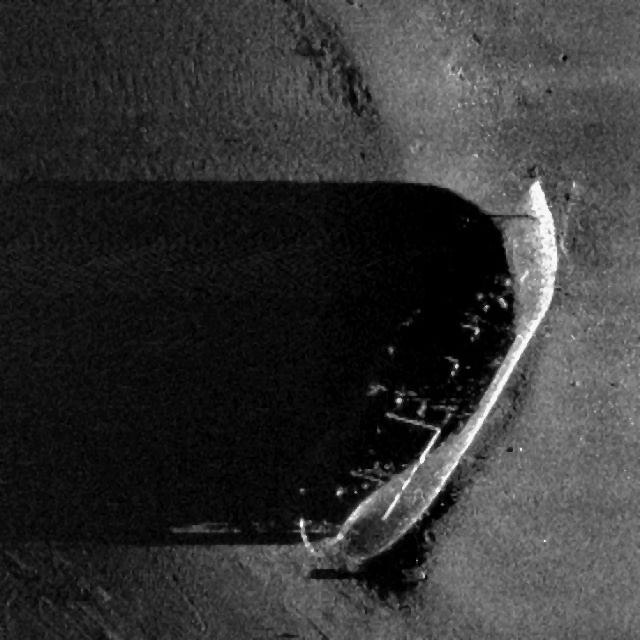Ship: (282, 157, 563, 588)
